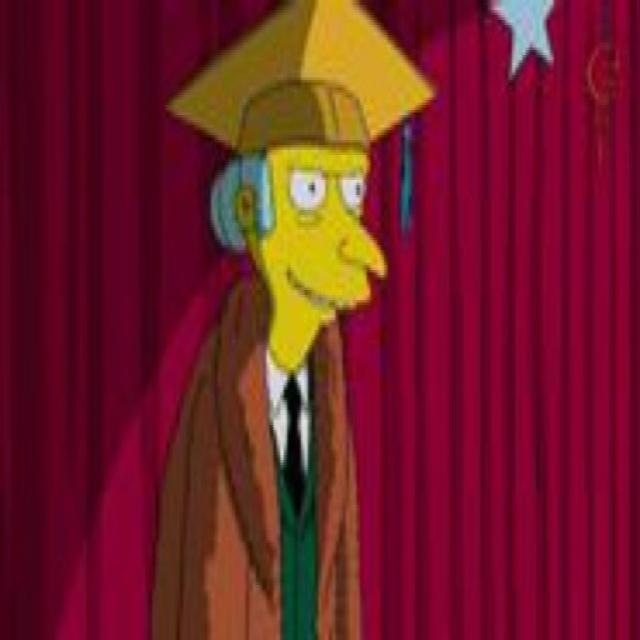Charles Montgomery Burns: (204, 141, 390, 364)
